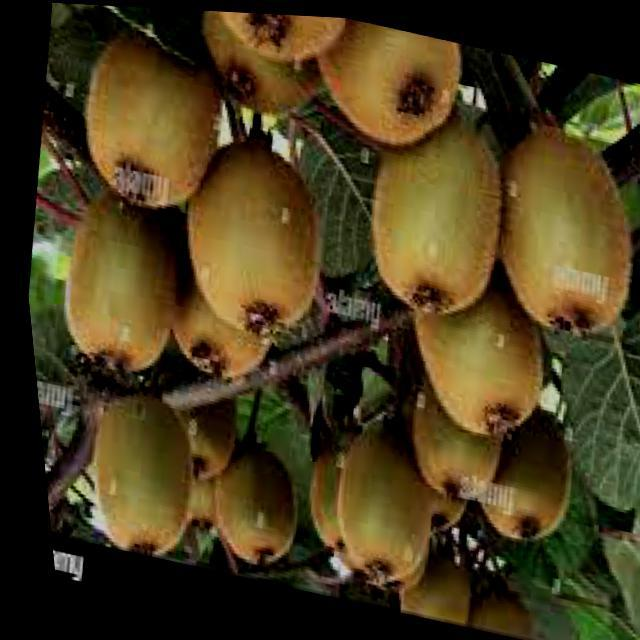kiwi: (155, 116, 353, 353), (345, 99, 526, 324), (469, 115, 640, 343), (57, 6, 237, 219), (378, 241, 565, 444), (40, 178, 194, 383), (309, 399, 442, 591), (305, 13, 478, 157), (63, 387, 202, 565), (183, 9, 350, 133), (456, 398, 579, 549), (153, 248, 282, 385), (283, 409, 396, 560), (187, 429, 302, 575), (385, 373, 509, 506), (379, 534, 477, 632), (452, 568, 577, 640), (204, 9, 348, 71)
